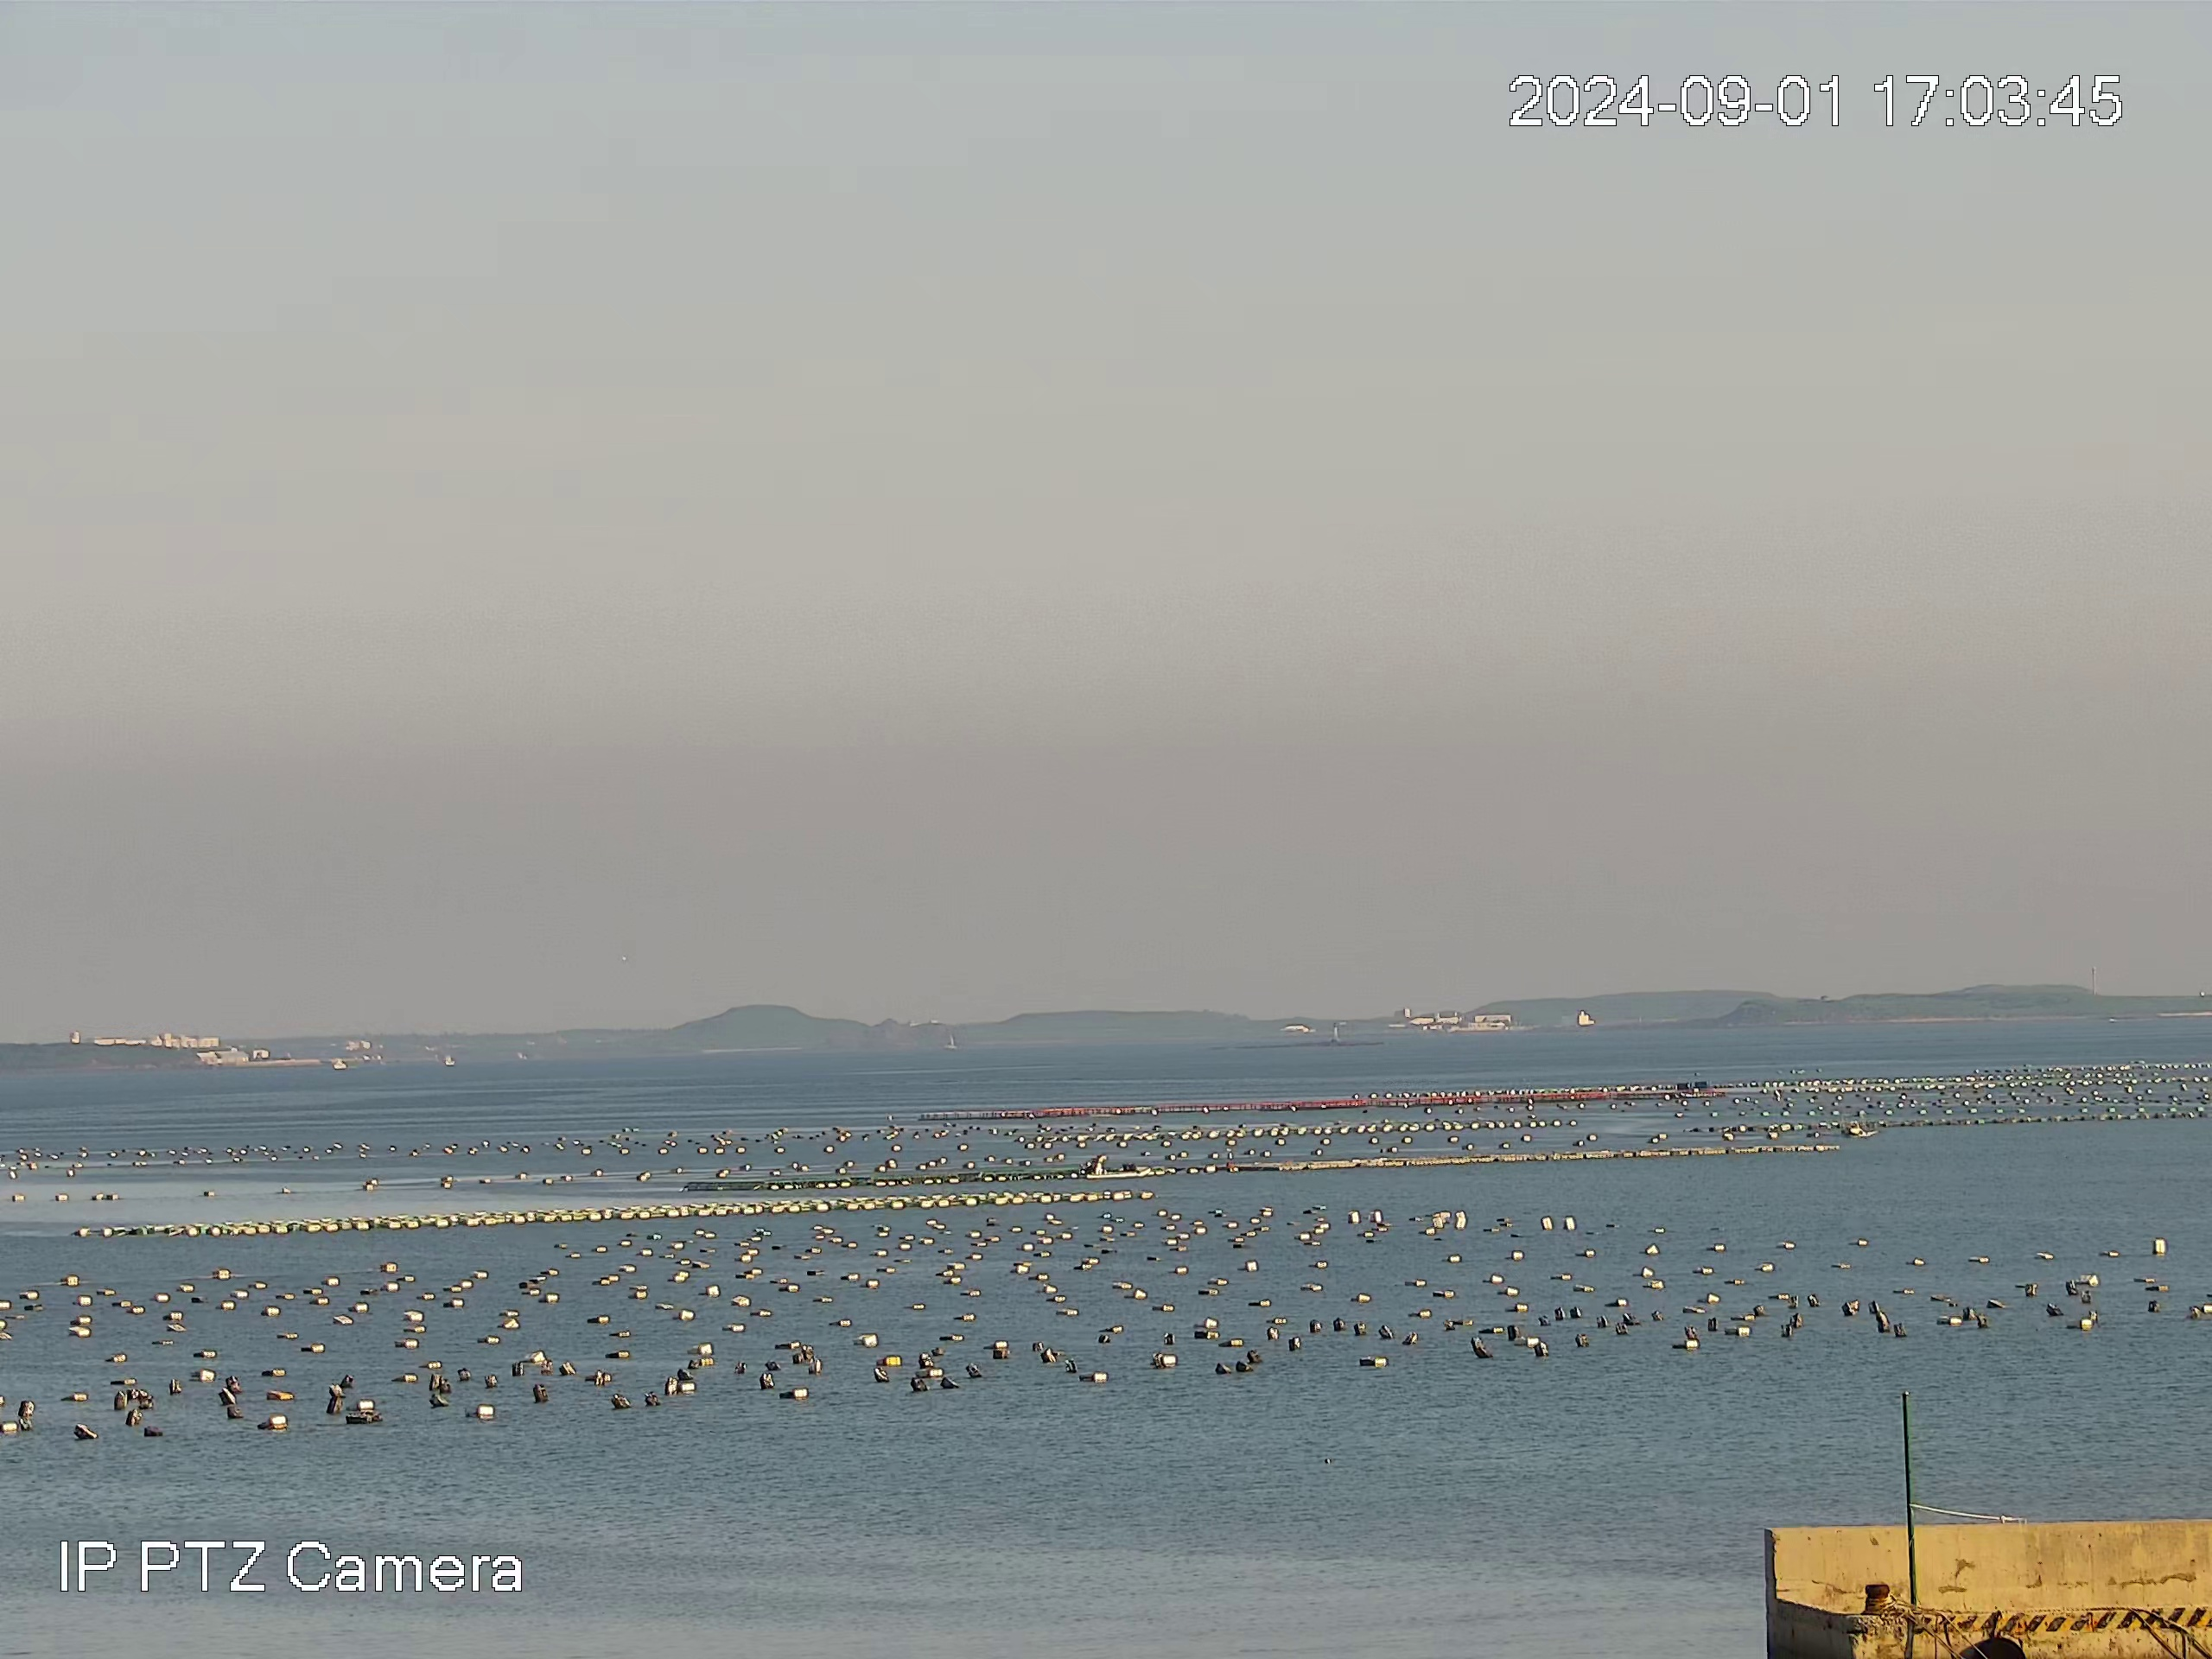boat: (1082, 1154, 1151, 1178), (1846, 1117, 1878, 1138)
